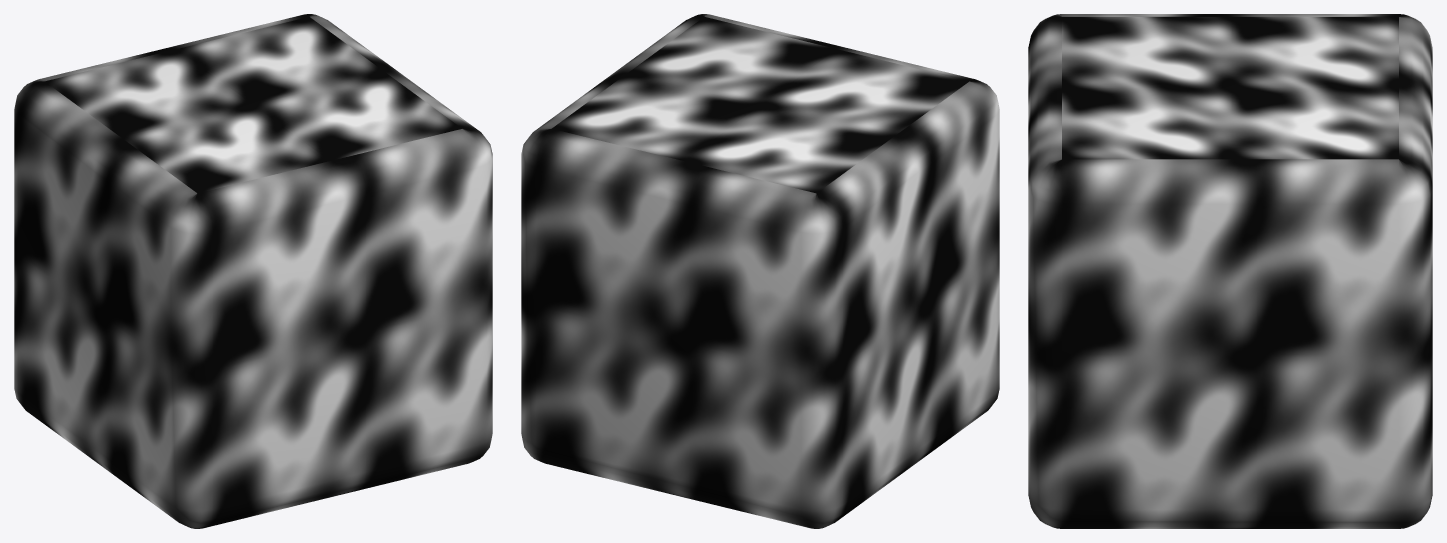
Rendered from Menu Cubes.dae.
3 renders of one model, left to right at view 1: azimuth 30°, elevation 25°; view 2: azimuth 150°, elevation 25°; view 3: azimuth 270°, elevation 25°, orthographic. The views are drawn at different scales.
Parts seen in each view (by area): view 1: MenuCube; view 2: MenuCube; view 3: MenuCube.
Part boxes in pixels (left/top/right/bottom): MenuCube: left=14, top=14, right=492, bottom=528; MenuCube: left=521, top=14, right=999, bottom=528; MenuCube: left=1028, top=14, right=1432, bottom=528.
Size of the model in its own units: 264 by 264 by 264.
2 materials, 2 textured.
